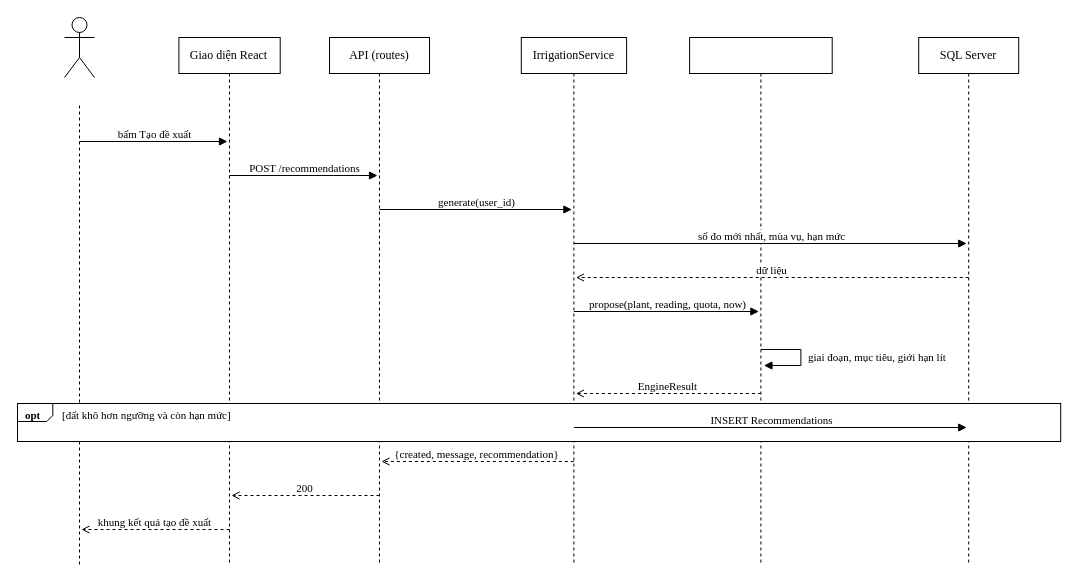
Some shapes in this 1079 by 583 pixel diagram are drawn without their labels. The box of each missing label's shape, as (x1, y1, x2, y2) in pixels:
Người dùng: (64, 16, 94, 78)
RecommendationEngine: (689, 36, 832, 74)
